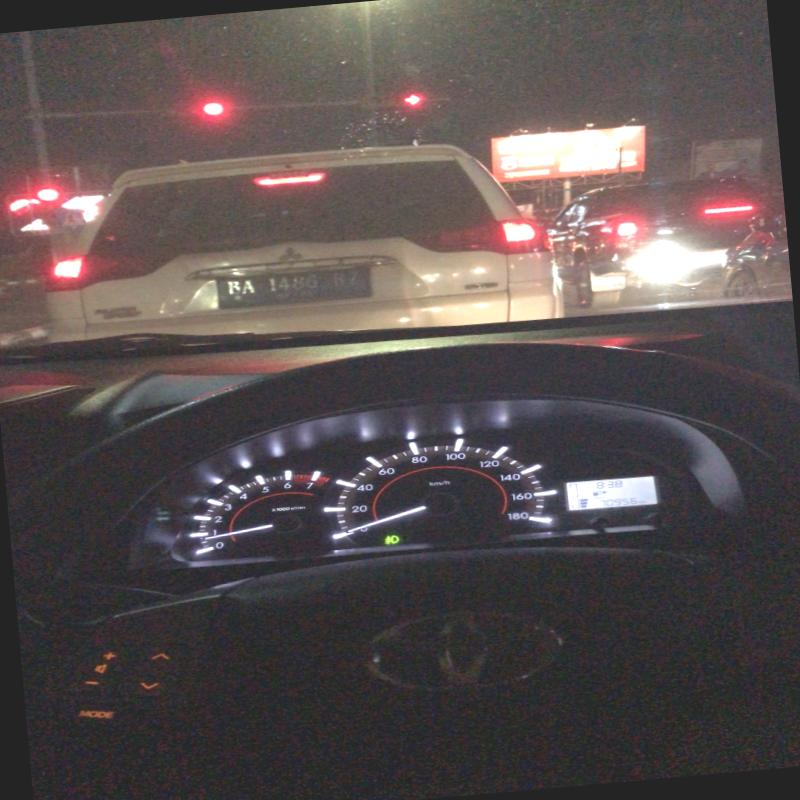license plate on a car: (218, 265, 372, 309)
